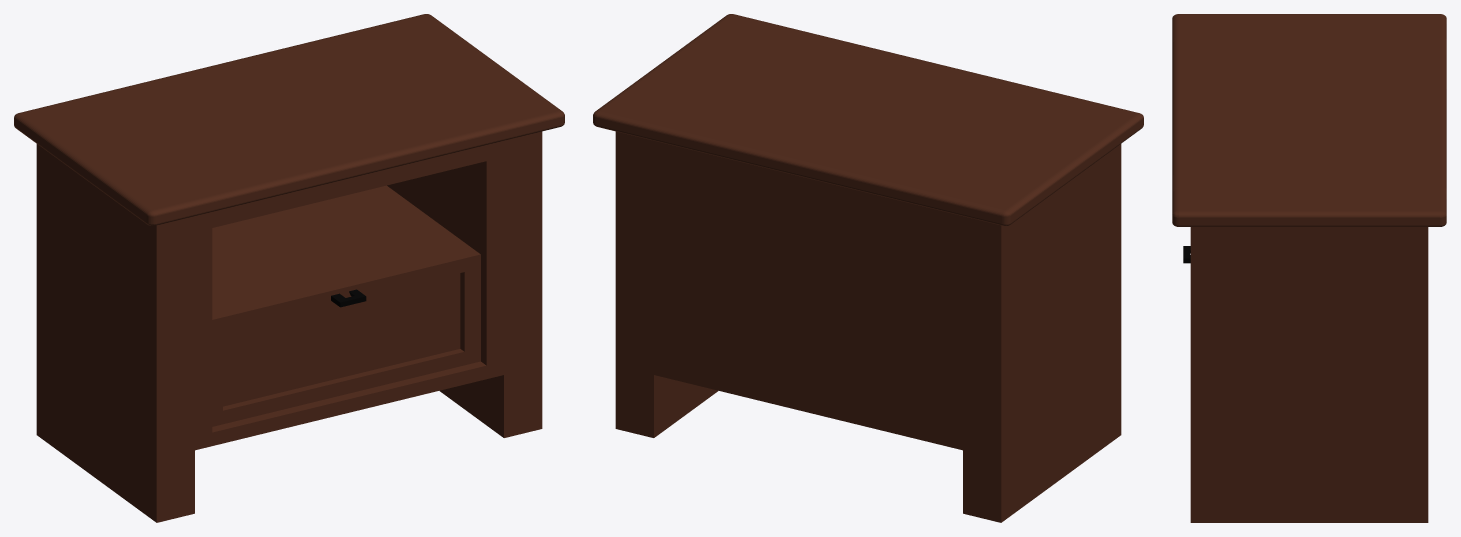
The model's file is Cabinet.fbx.
The picture shows the model from 3 angles, left to right: view 1: azimuth 30°, elevation 25°; view 2: azimuth 150°, elevation 25°; view 3: azimuth 270°, elevation 25°; orthographic projection.
Visible parts, largest first — view 1: black; view 2: black; view 3: black.
Part boxes in pixels (<box>): black: <box>14,14,564,522</box>; black: <box>593,14,1143,522</box>; black: <box>1172,14,1446,522</box>.
Size of the model in its own units: 47.01 by 59.86 by 81.83.
